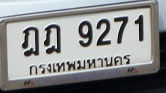txt11: (42, 23, 64, 55), (20, 26, 40, 58)
